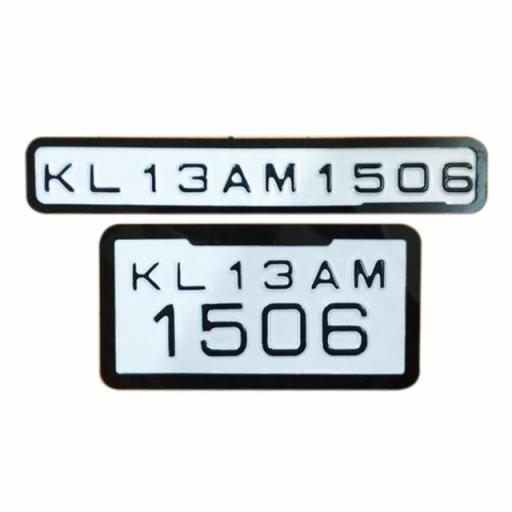number plate: (96, 229, 424, 388), (28, 138, 488, 214)
